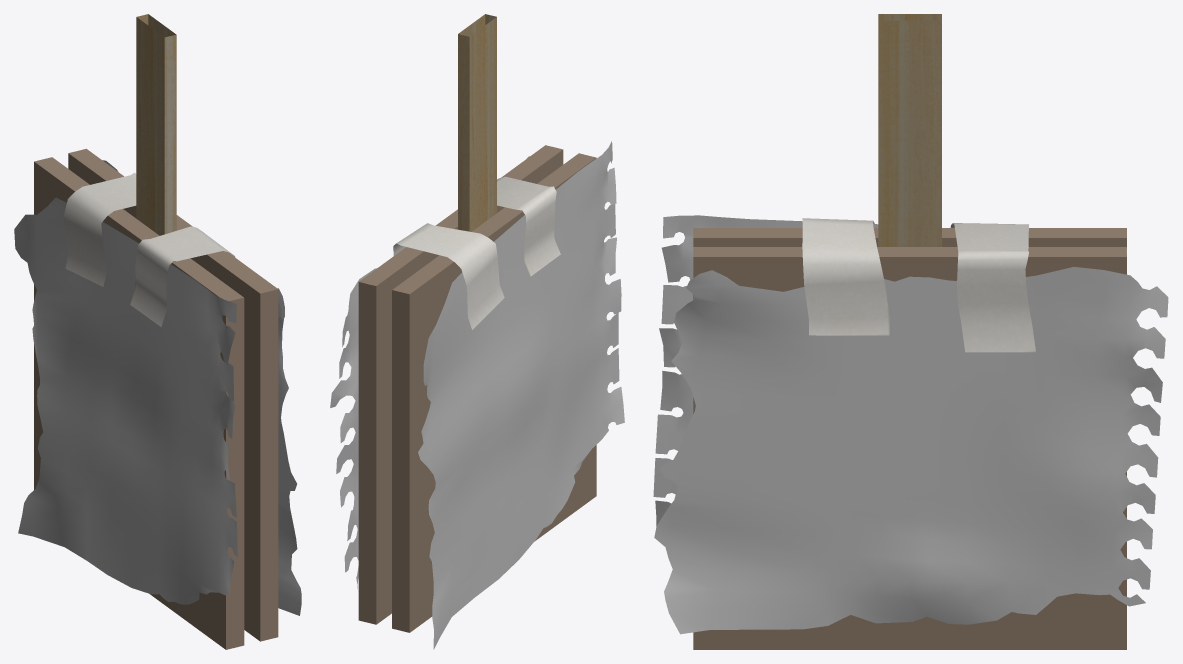
File: PapelPergunta.fbx
3 renders of one model, left to right at view 1: azimuth 30°, elevation 25°; view 2: azimuth 150°, elevation 25°; view 3: azimuth 270°, elevation 25°, orthographic. The views are drawn at different scales.
Parts seen in each view (by area): view 1: PapelPergunta, PalitoEPapelao, Fita, PapelResposta; view 2: PapelPergunta, PalitoEPapelao, Fita, PapelResposta; view 3: PapelResposta, PalitoEPapelao, Fita, PapelPergunta.
Part boxes in pixels (x1,y1,x2,y2): PapelPergunta: [14, 197, 237, 604]; PalitoEPapelao: [34, 14, 278, 649]; Fita: [63, 172, 235, 326]; PapelResposta: [102, 160, 301, 615]; PapelPergunta: [418, 141, 624, 649]; PalitoEPapelao: [358, 14, 596, 632]; Fita: [393, 176, 560, 329]; PapelResposta: [330, 156, 529, 588]; PapelResposta: [654, 267, 1168, 634]; PalitoEPapelao: [693, 14, 1126, 649]; Fita: [802, 218, 1035, 352]; PapelPergunta: [653, 215, 878, 526].
Bounding box in the file's own units: 53.33 × 324 × 238.
